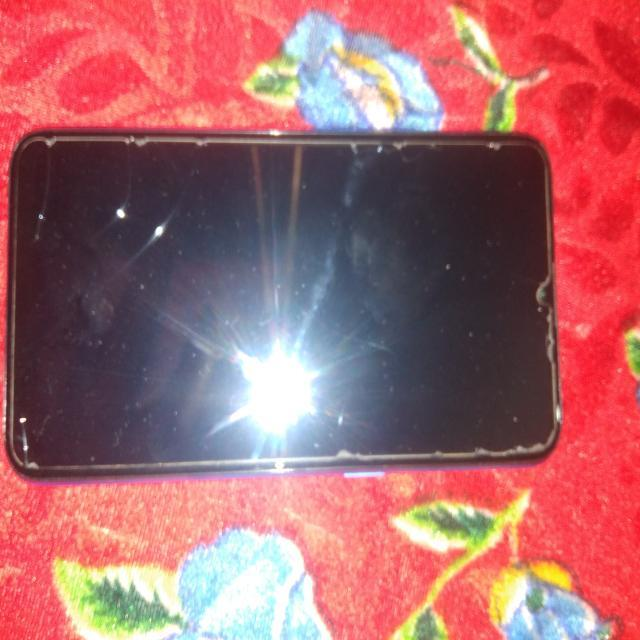screen crack: (23, 119, 214, 287), (532, 254, 580, 465), (8, 395, 42, 485)
